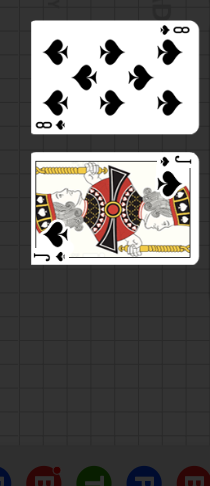8S: (35, 118, 68, 130)
JS: (33, 220, 80, 264), (154, 153, 200, 197)
